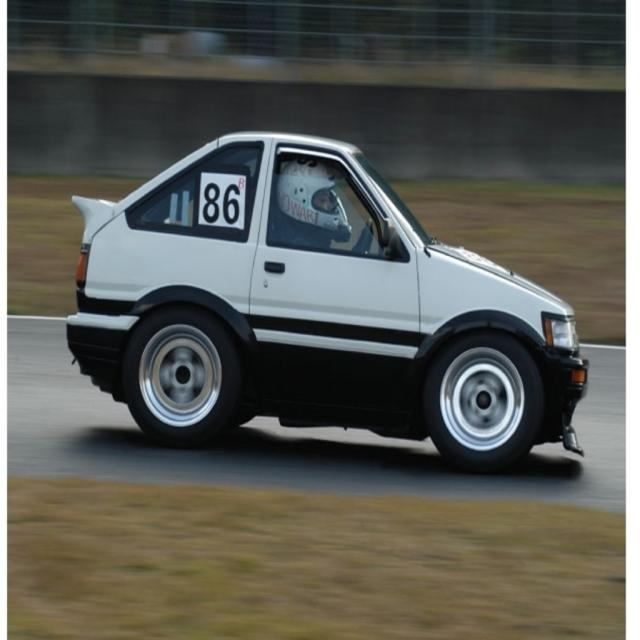car: (66, 121, 585, 476)
